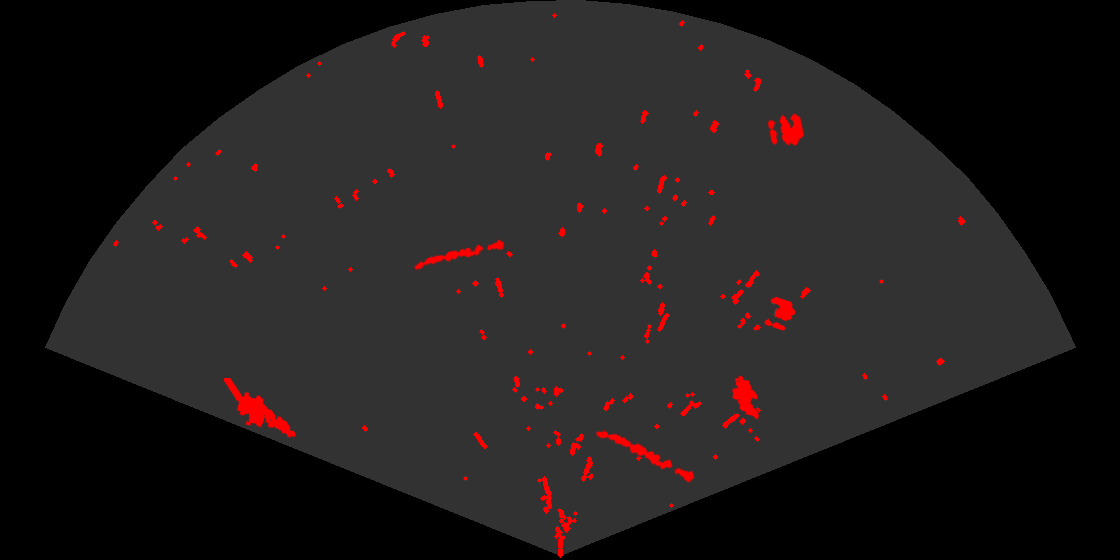AUV: (731, 374, 761, 421)
ball: (766, 112, 806, 147), (763, 295, 797, 332)
chain: (594, 430, 696, 484), (413, 238, 506, 272)
frogman: (224, 378, 297, 439)
